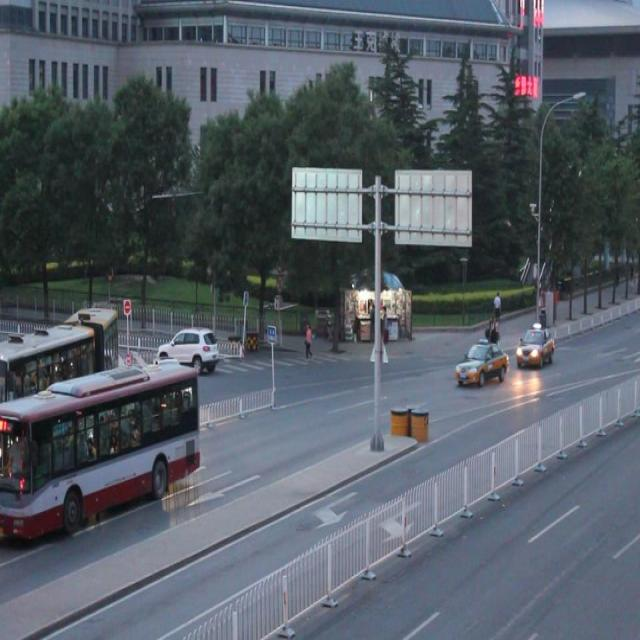car: (157, 326, 218, 370), (455, 338, 508, 387), (133, 345, 181, 393), (516, 323, 554, 367)
van: (0, 360, 196, 540), (0, 306, 119, 414)
